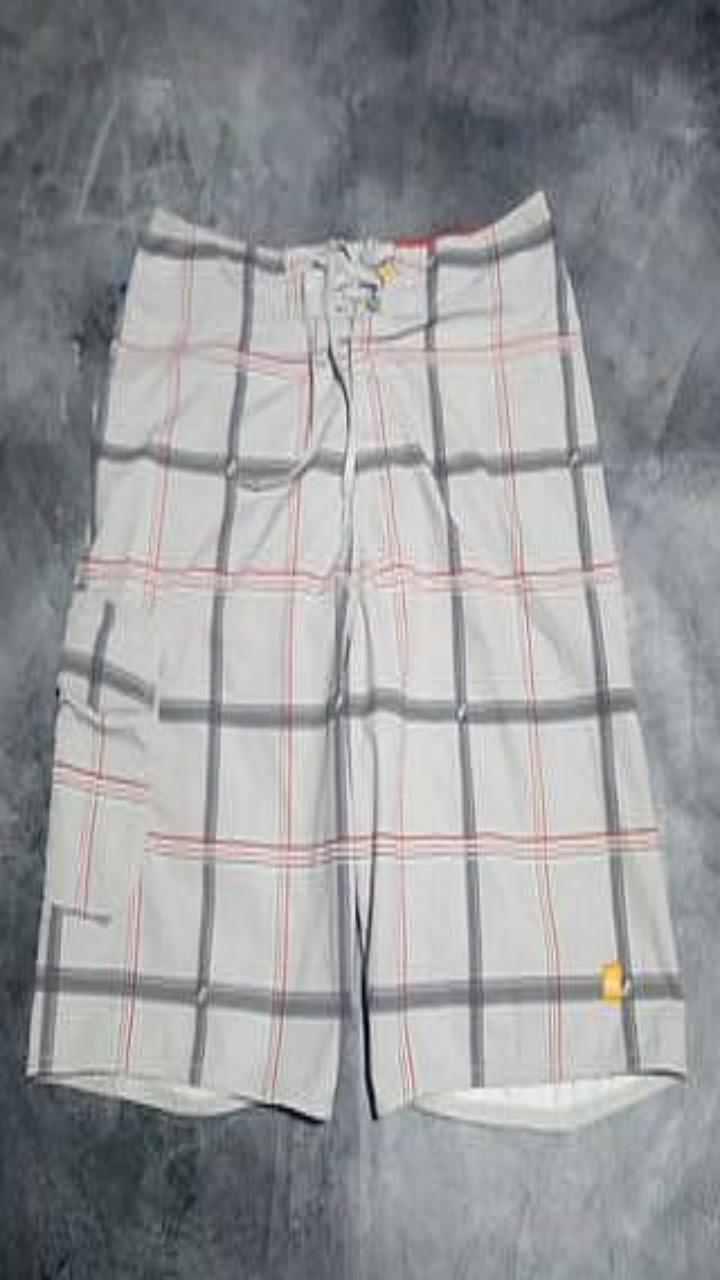Shorts: (26, 190, 685, 1127)
